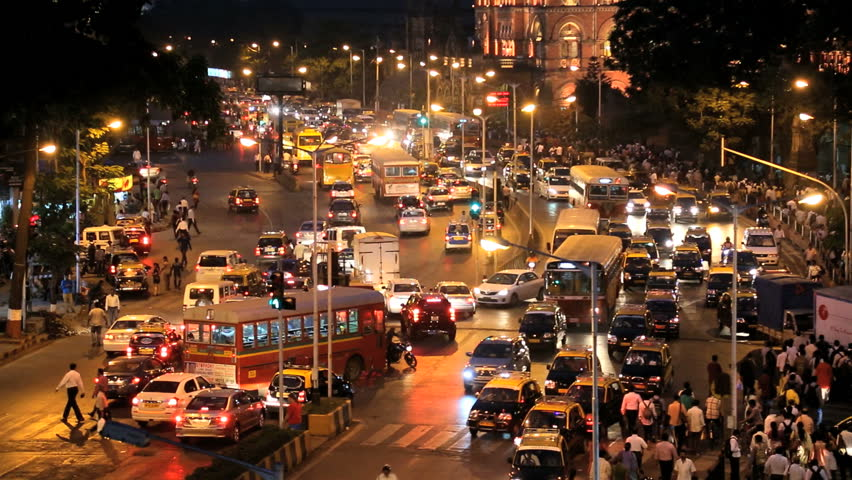bus: (187, 277, 391, 375), (546, 234, 623, 322), (364, 147, 427, 200), (569, 164, 630, 208), (309, 149, 360, 188)
car: (128, 370, 215, 428), (183, 378, 258, 444), (468, 375, 546, 437), (452, 329, 527, 392), (504, 424, 571, 480), (478, 257, 541, 312), (550, 339, 606, 396), (523, 391, 587, 437), (99, 352, 156, 402), (620, 338, 671, 390), (400, 284, 449, 338), (572, 367, 629, 413), (98, 312, 165, 350), (174, 274, 249, 307), (607, 301, 658, 348), (196, 248, 253, 284), (106, 261, 159, 298), (713, 291, 762, 330), (250, 221, 288, 270), (219, 179, 267, 216), (441, 272, 475, 323), (670, 242, 710, 285), (394, 203, 439, 241), (704, 264, 747, 303), (443, 215, 476, 260), (623, 251, 646, 287)
